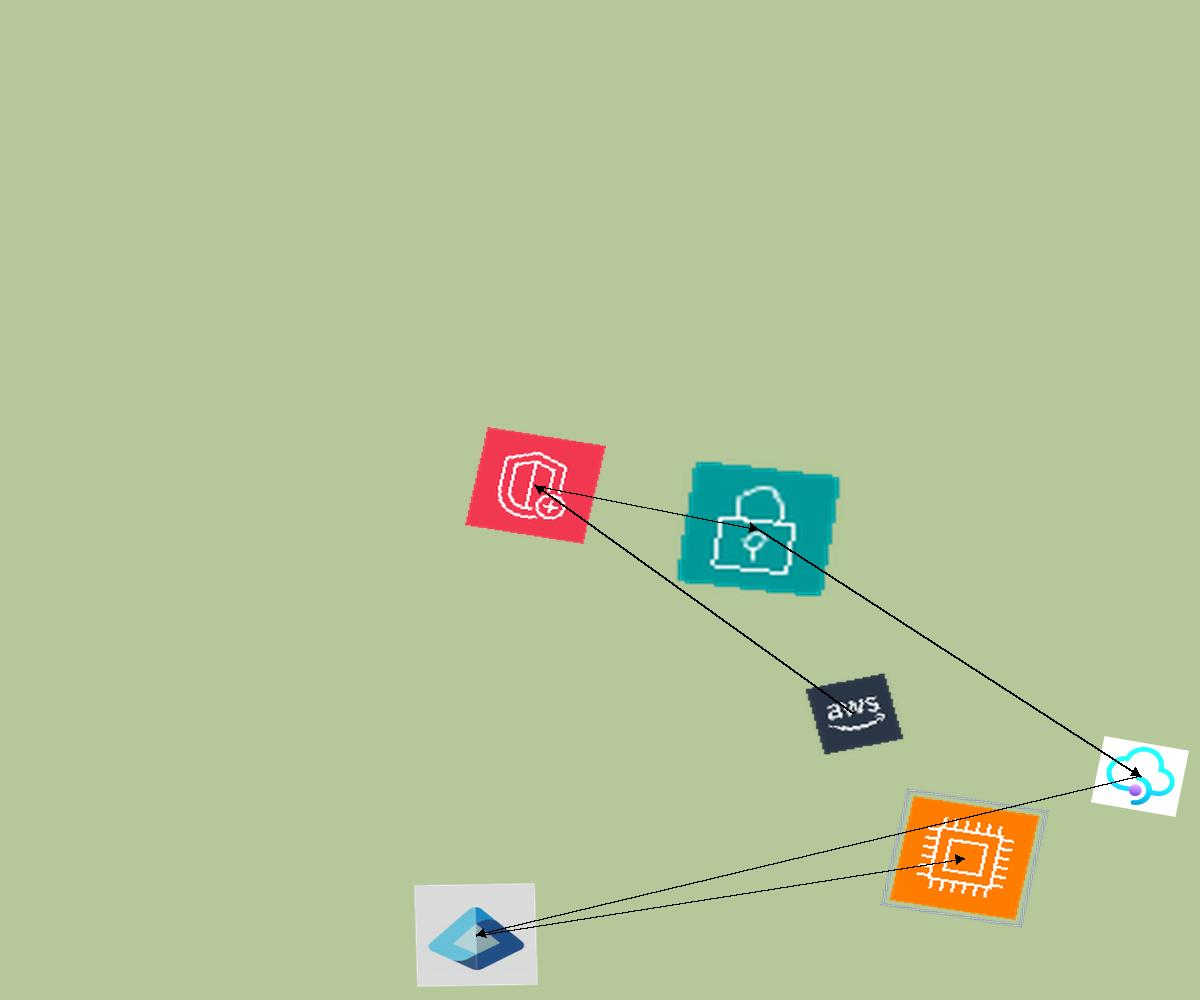AWS-Category_Compute: (880, 788, 1049, 928)
AWS-Cloud-logo: (804, 672, 905, 756)
AWS-Private-subnet: (674, 459, 843, 599)
AWS-Shield: (465, 427, 606, 544)
Azure_api_gateway: (1091, 736, 1189, 817)
Azure_microsoft_entra: (414, 883, 538, 987)
